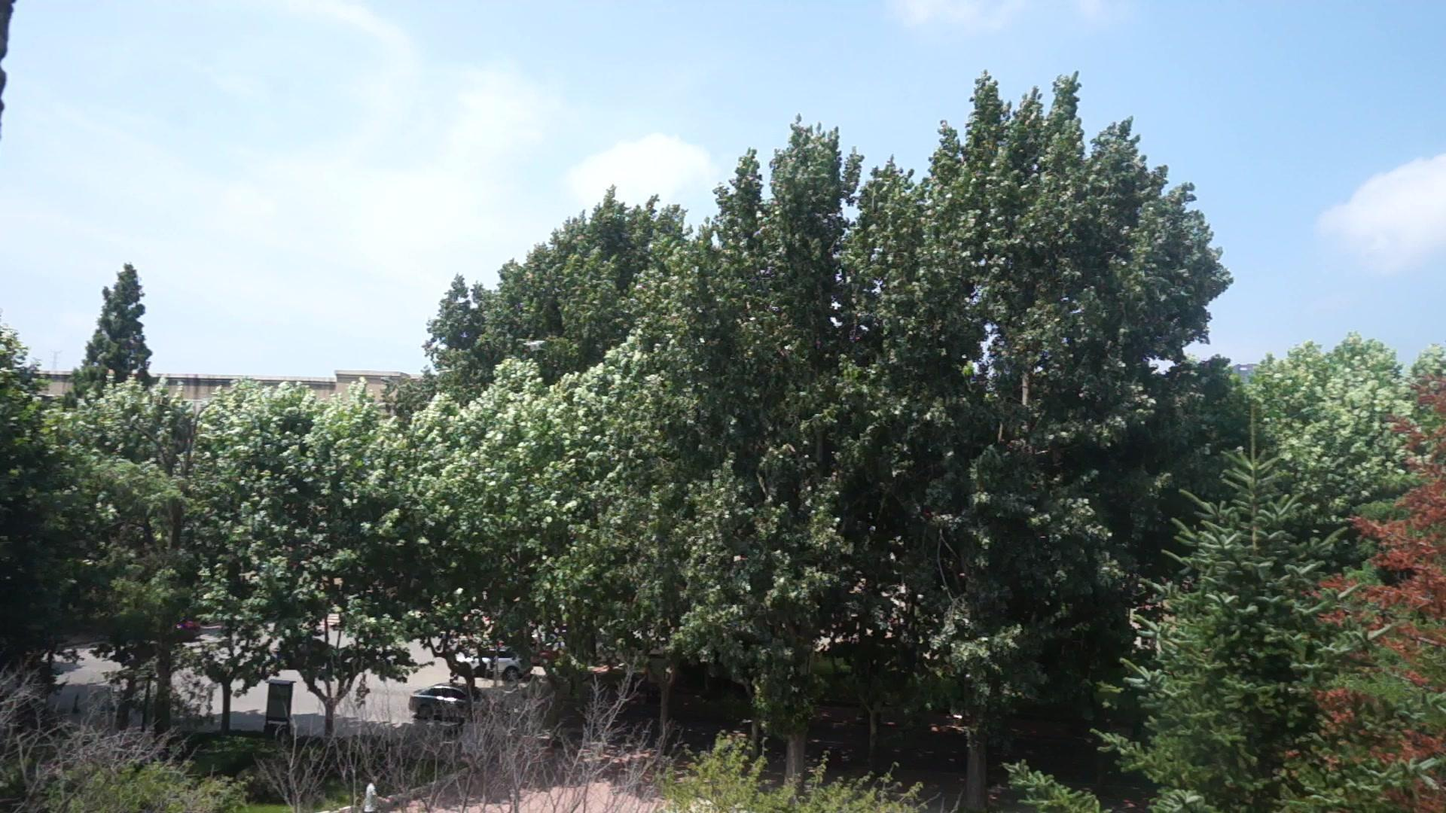UAV: (524, 341, 546, 352)
